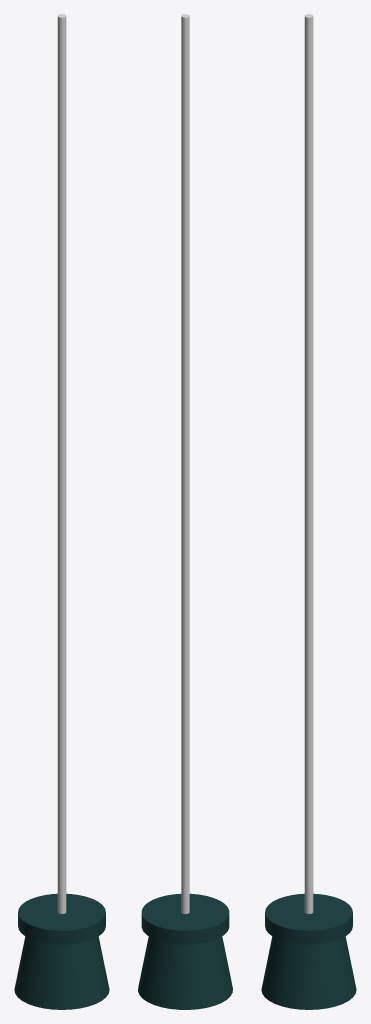
File: Laser.fbx
3 renders of one model, left to right at view 1: azimuth 90°, elevation 25°; view 2: azimuth 150°, elevation 25°; view 3: azimuth 270°, elevation 25°, orthographic.
Parts seen in each view (by area): view 1: Laser, Cylinder; view 2: Laser, Cylinder; view 3: Laser, Cylinder.
Boxes of the visible parts, left/top/right/bottom form: Laser: left=14, top=893, right=109, bottom=1009; Cylinder: left=57, top=14, right=66, bottom=913; Laser: left=138, top=893, right=232, bottom=1009; Cylinder: left=181, top=14, right=189, bottom=913; Laser: left=261, top=893, right=356, bottom=1009; Cylinder: left=304, top=14, right=313, bottom=913.
Bounding box in the file's own units: 64.5 × 728 × 64.5.
